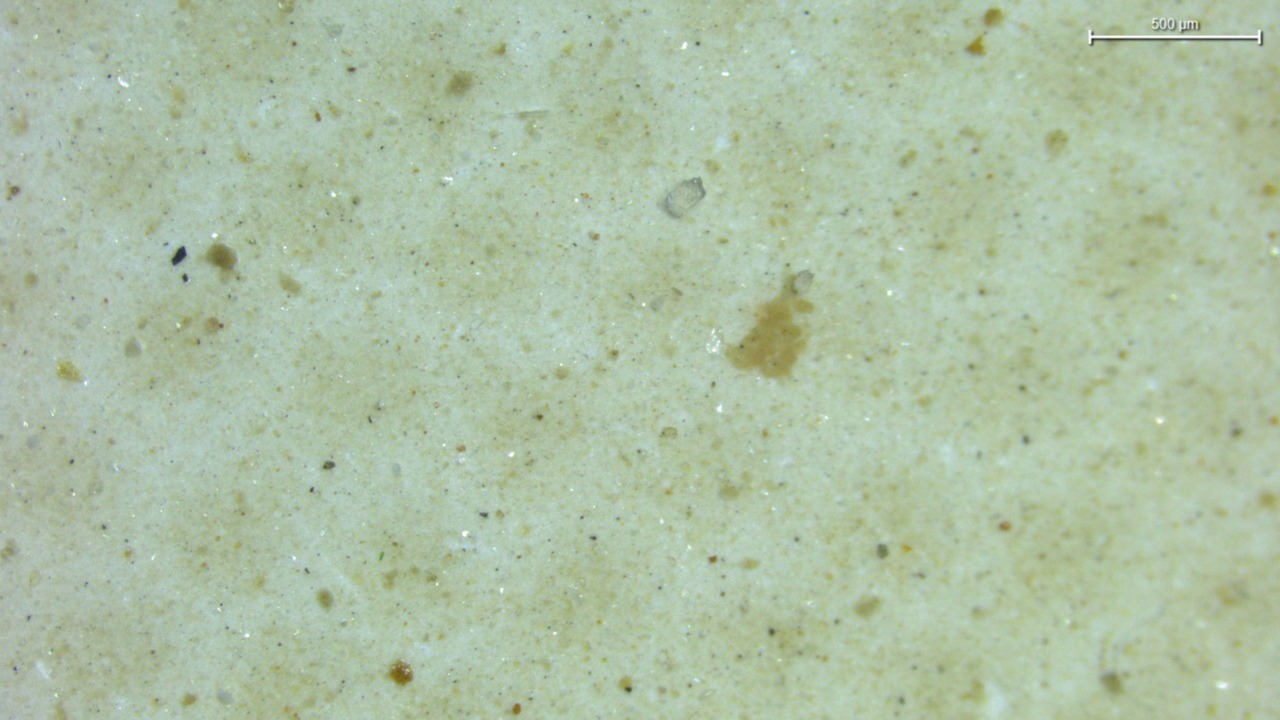microplastic_fragment: (659, 177, 705, 218), (793, 270, 814, 293)
